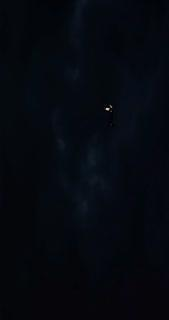Plane: (99, 99, 116, 119)
